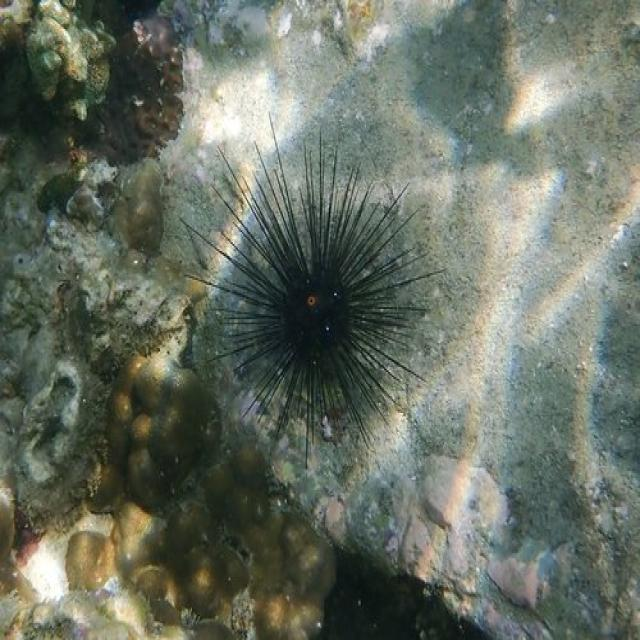Urchin: (178, 118, 453, 464)
